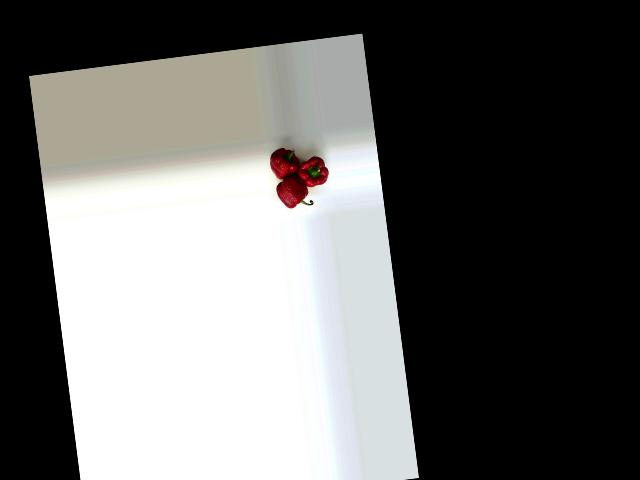bell_pepper: (273, 175, 316, 217)
